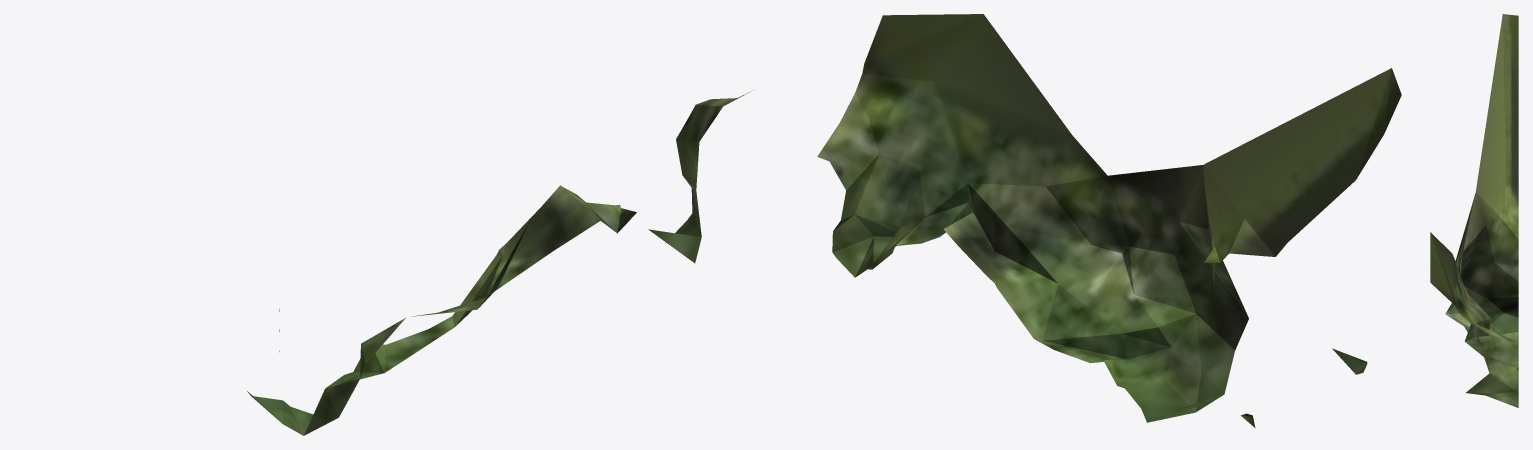
3 renders of one model, left to right at view 1: azimuth 30°, elevation 25°; view 2: azimuth 150°, elevation 25°; view 3: azimuth 270°, elevation 25°, orthographic. The views are drawn at different scales.
Bounding box in the file's own units: 46.78 × 34.29 × 9.11.
1 material, 1 textured.
